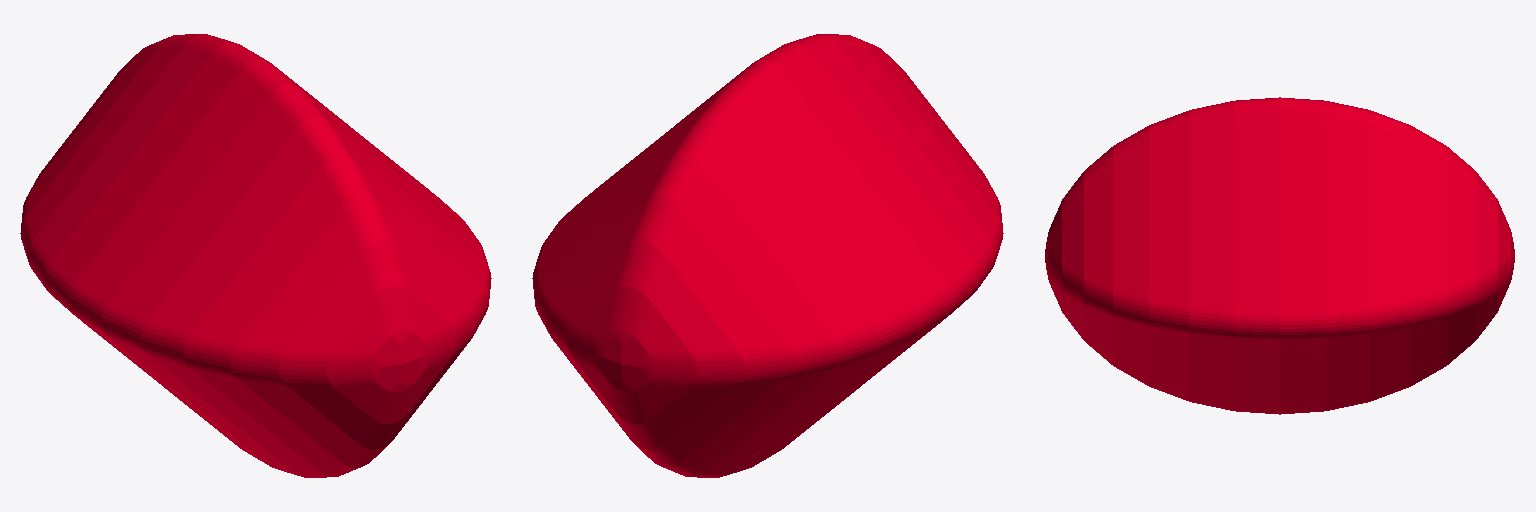
URDF robot description (ovaloid.urdf):
<?xml version="1.0" ?>
<robot name="ovaloid.urdf">

  <link name="ovaloid">
    <contact>
    	<friction_anchor/>
    	   <lateral_friction value="1.0"/>
    </contact>
    <inertial>
      <origin rpy="0 0 0" xyz="0 0 0"/>
       <mass value=".1"/>
       <inertia ixx="1" ixy="0" ixz="0" iyy="1" iyz="0" izz="1"/>
    </inertial>
    <visual>
      <origin rpy="0 0 0" xyz="0 0 0"/>
      <geometry>
				<mesh filename="ovaloid_rounded.obj" scale="1.0 1.0 1.0"/>
      </geometry>
       <material name="red">
        <color rgba="0.9 0 0.2 1.0"/>
      </material>
    </visual>
    <collision>
      <origin rpy="0 0 0" xyz="0 0 0"/>
      <geometry>
				<mesh filename="ovaloid_rounded.obj" scale="1.0 1.0 1.0"/>
      </geometry>
    </collision>
  </link>


</robot>

--- What the picture shows (computed from the rendered views, not written in the file) ---
3 views of the same robot in one strip: view 1: azimuth 30°, elevation 25°; view 2: azimuth 150°, elevation 25°; view 3: azimuth 270°, elevation 25° (orthographic).
Robot: ovaloid.urdf — 1 links, 0 joints (none); root link ovaloid; default pose: every joint at zero.
Visible links, largest first — view 1: ovaloid; view 2: ovaloid; view 3: ovaloid.
Link boxes in pixels (x1,y1,x2,y2): ovaloid: (20, 34, 491, 477); ovaloid: (532, 34, 1003, 477); ovaloid: (1045, 97, 1514, 414).
Size in the robot's own frame: 0.0954 by 0.13 by 0.0954 metres.
Meshes: 1 distinct files referenced, 1 mesh visuals loaded (1 OBJ).